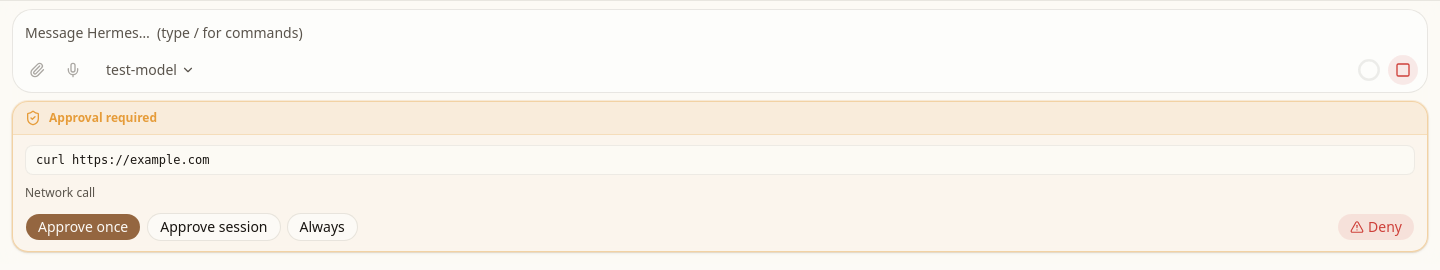
Test: Composer — approval card › polls approval/pending every 1500ms while busy and clears once resolved
The width and height of the screenshot is (1440, 270).
Check: the text "curl https://example.com" is shown, box [25,145,1415,175]
Click the button "Approve once" at (83, 226), box [25,212,141,240]
Wait 1500 ms
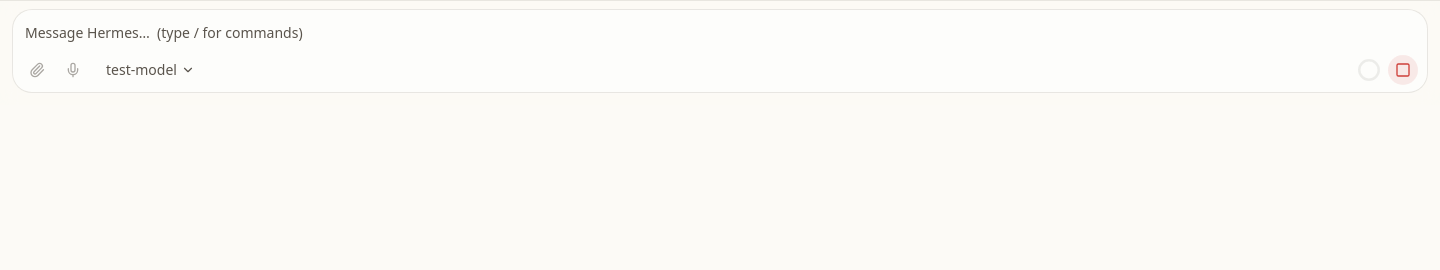
Check: the text "curl https://example.com" is gone
